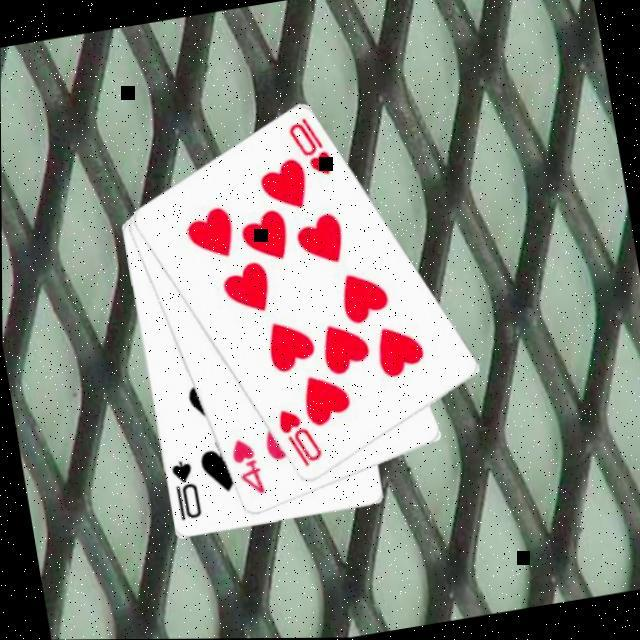10H: (273, 402, 328, 474), (285, 113, 339, 185)
10S: (167, 456, 205, 526)
4H: (226, 433, 270, 502)
